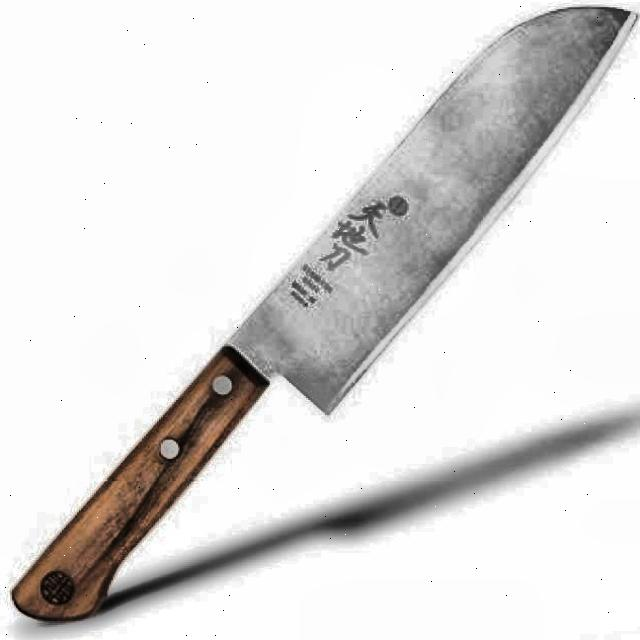knife: (6, 5, 638, 624)
